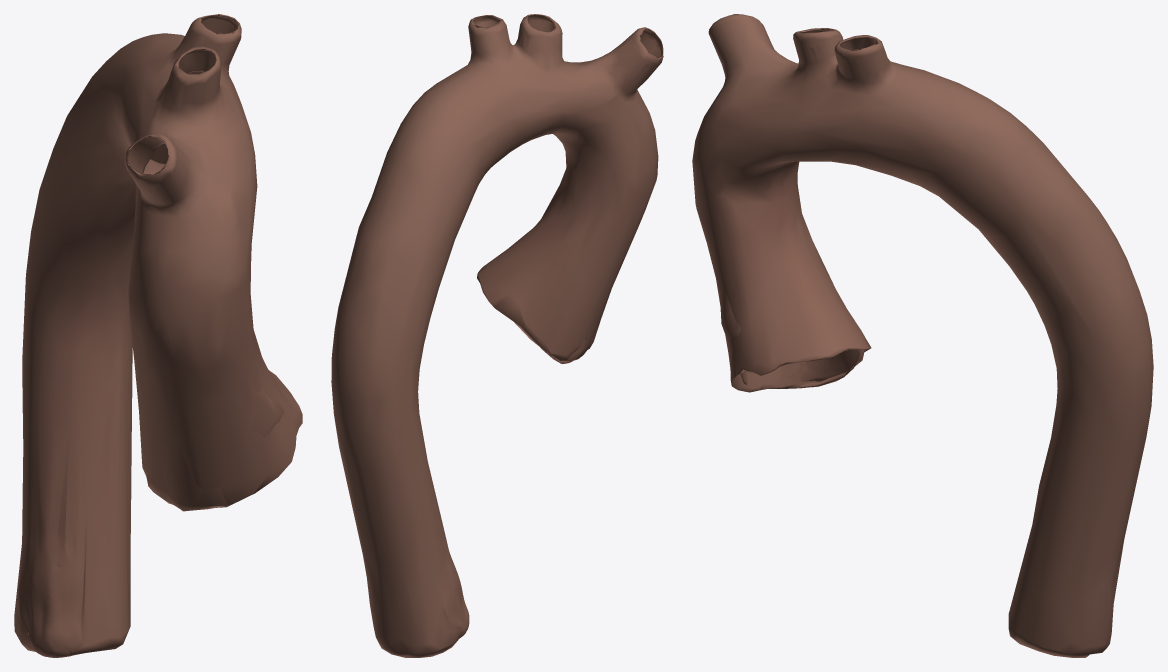
Rendered from aorta.glb.
3 views of the same model, side by side, from view 1: azimuth 30°, elevation 25°; view 2: azimuth 150°, elevation 25°; view 3: azimuth 270°, elevation 25° (orthographic). The views are drawn at different scales.
Visible parts, largest first — view 1: Aorta; view 2: Aorta; view 3: Aorta.
Part boxes in pixels (x1,y1,x2,y2): Aorta: [14, 14, 302, 657]; Aorta: [331, 14, 663, 657]; Aorta: [692, 14, 1153, 657].
Size of the model in its own units: 1.17 by 3.8 by 2.57.
